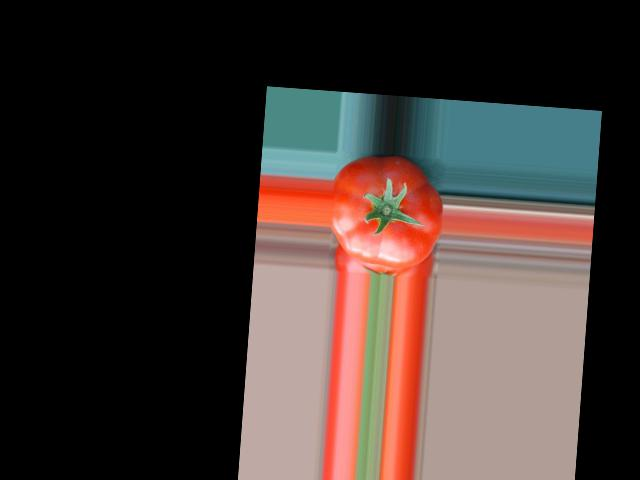tomato: (328, 152, 447, 271)
